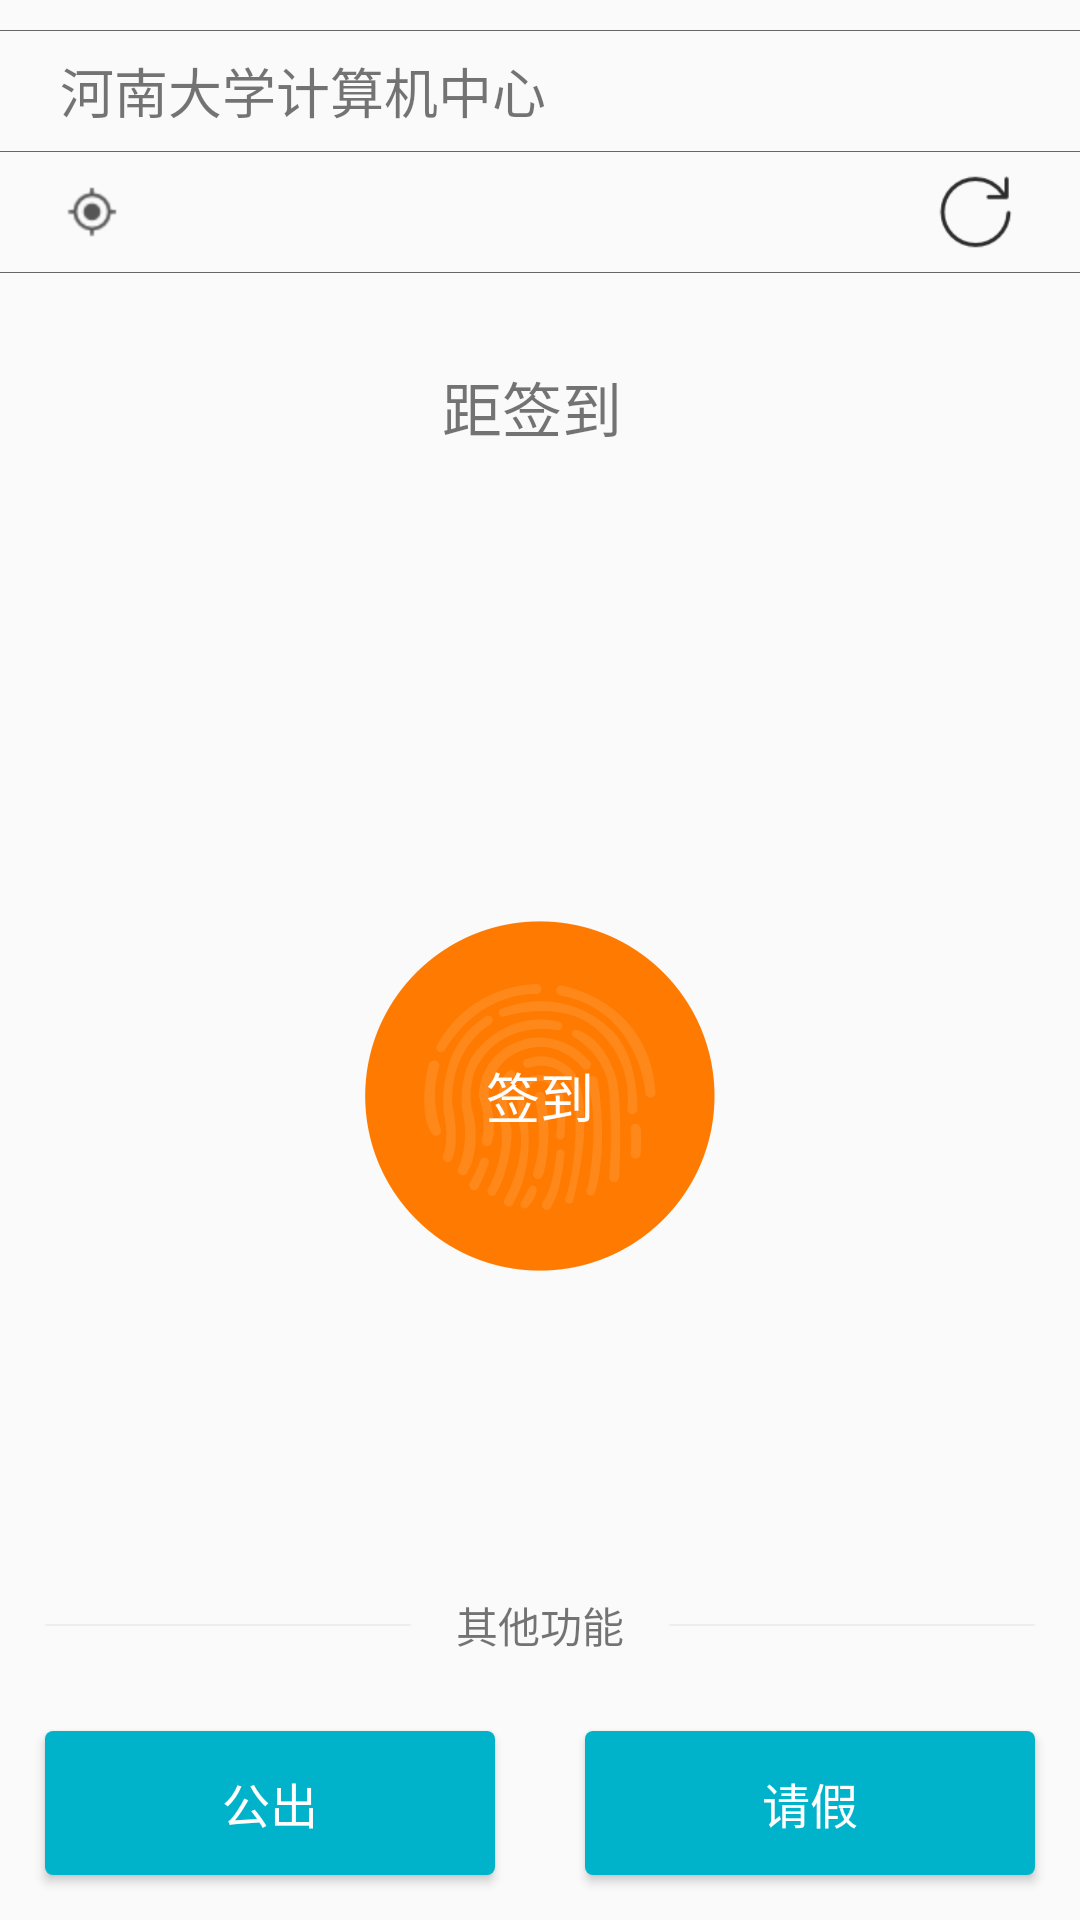

Screen size 1080 x 1920. Icon name, then its center in pixels as point (x, y):
loc refresh: point (975, 212)
locate: point (92, 212)
